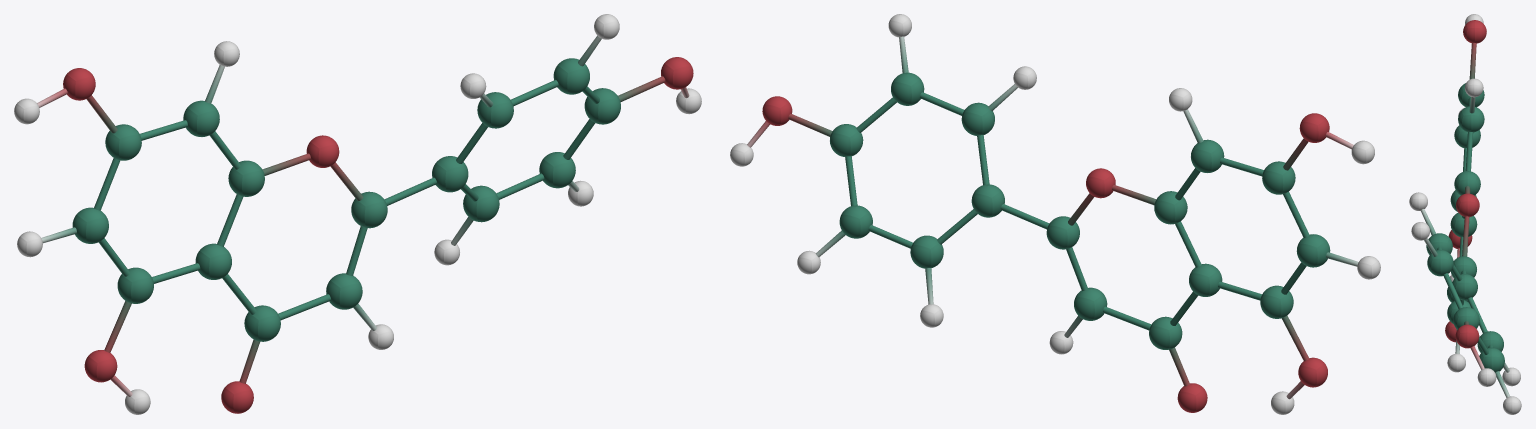
File: Apigenin.fbx
3 views of the same model, side by side, from view 1: azimuth 30°, elevation 25°; view 2: azimuth 150°, elevation 25°; view 3: azimuth 270°, elevation 25° (orthographic). The views are drawn at different scales.
Parts seen in each view (by area): view 1: curMeshHyperballExportedMesh; view 2: curMeshHyperballExportedMesh; view 3: curMeshHyperballExportedMesh.
Boxes of the visible parts, x1,y1,x2,y2 form: curMeshHyperballExportedMesh: (14, 14, 701, 414); curMeshHyperballExportedMesh: (730, 14, 1380, 414); curMeshHyperballExportedMesh: (1409, 14, 1521, 414).
Size of the model in its own units: 12.41 by 6.31 by 2.39.
